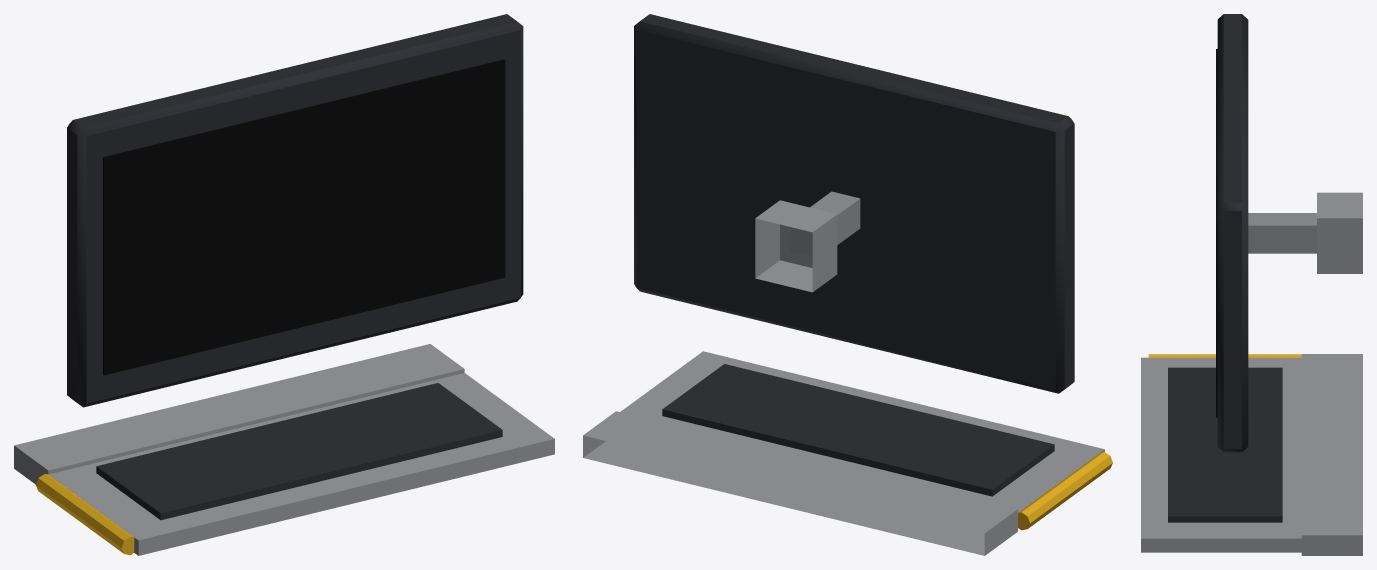
Rendered from SM_Consola_Recepcion.fbx.
3 renders of one model, left to right at view 1: azimuth 30°, elevation 25°; view 2: azimuth 150°, elevation 25°; view 3: azimuth 270°, elevation 25°, orthographic. The views are drawn at different scales.
Visible parts, largest first — view 1: SM_Consola_Recepcion; view 2: SM_Consola_Recepcion; view 3: SM_Consola_Recepcion.
Part boxes in pixels (left/top/right/bottom): SM_Consola_Recepcion: left=14, top=14, right=554, bottom=555; SM_Consola_Recepcion: left=583, top=14, right=1112, bottom=555; SM_Consola_Recepcion: left=1141, top=14, right=1362, bottom=555.
Bounding box in the file's own units: 0.6 × 0.515 × 0.29.
